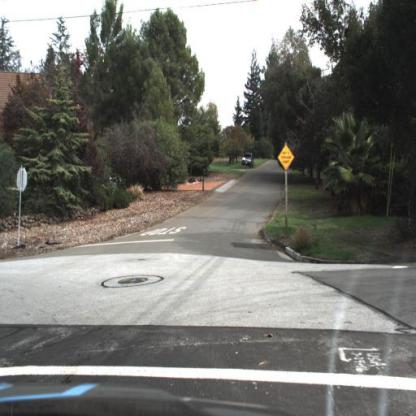car: (242, 151, 257, 170)
